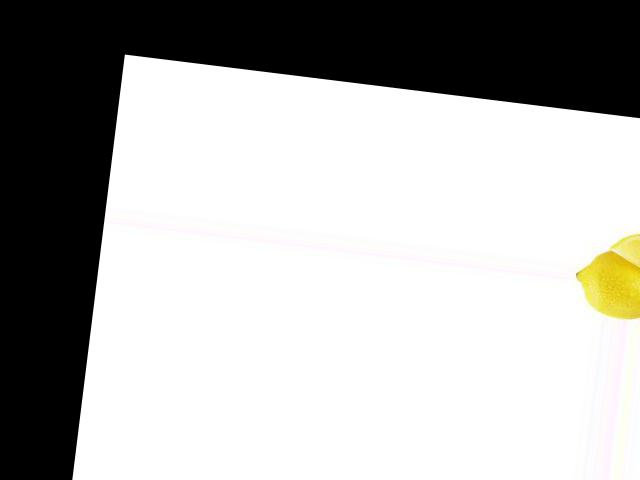lemon: (569, 233, 640, 325)
